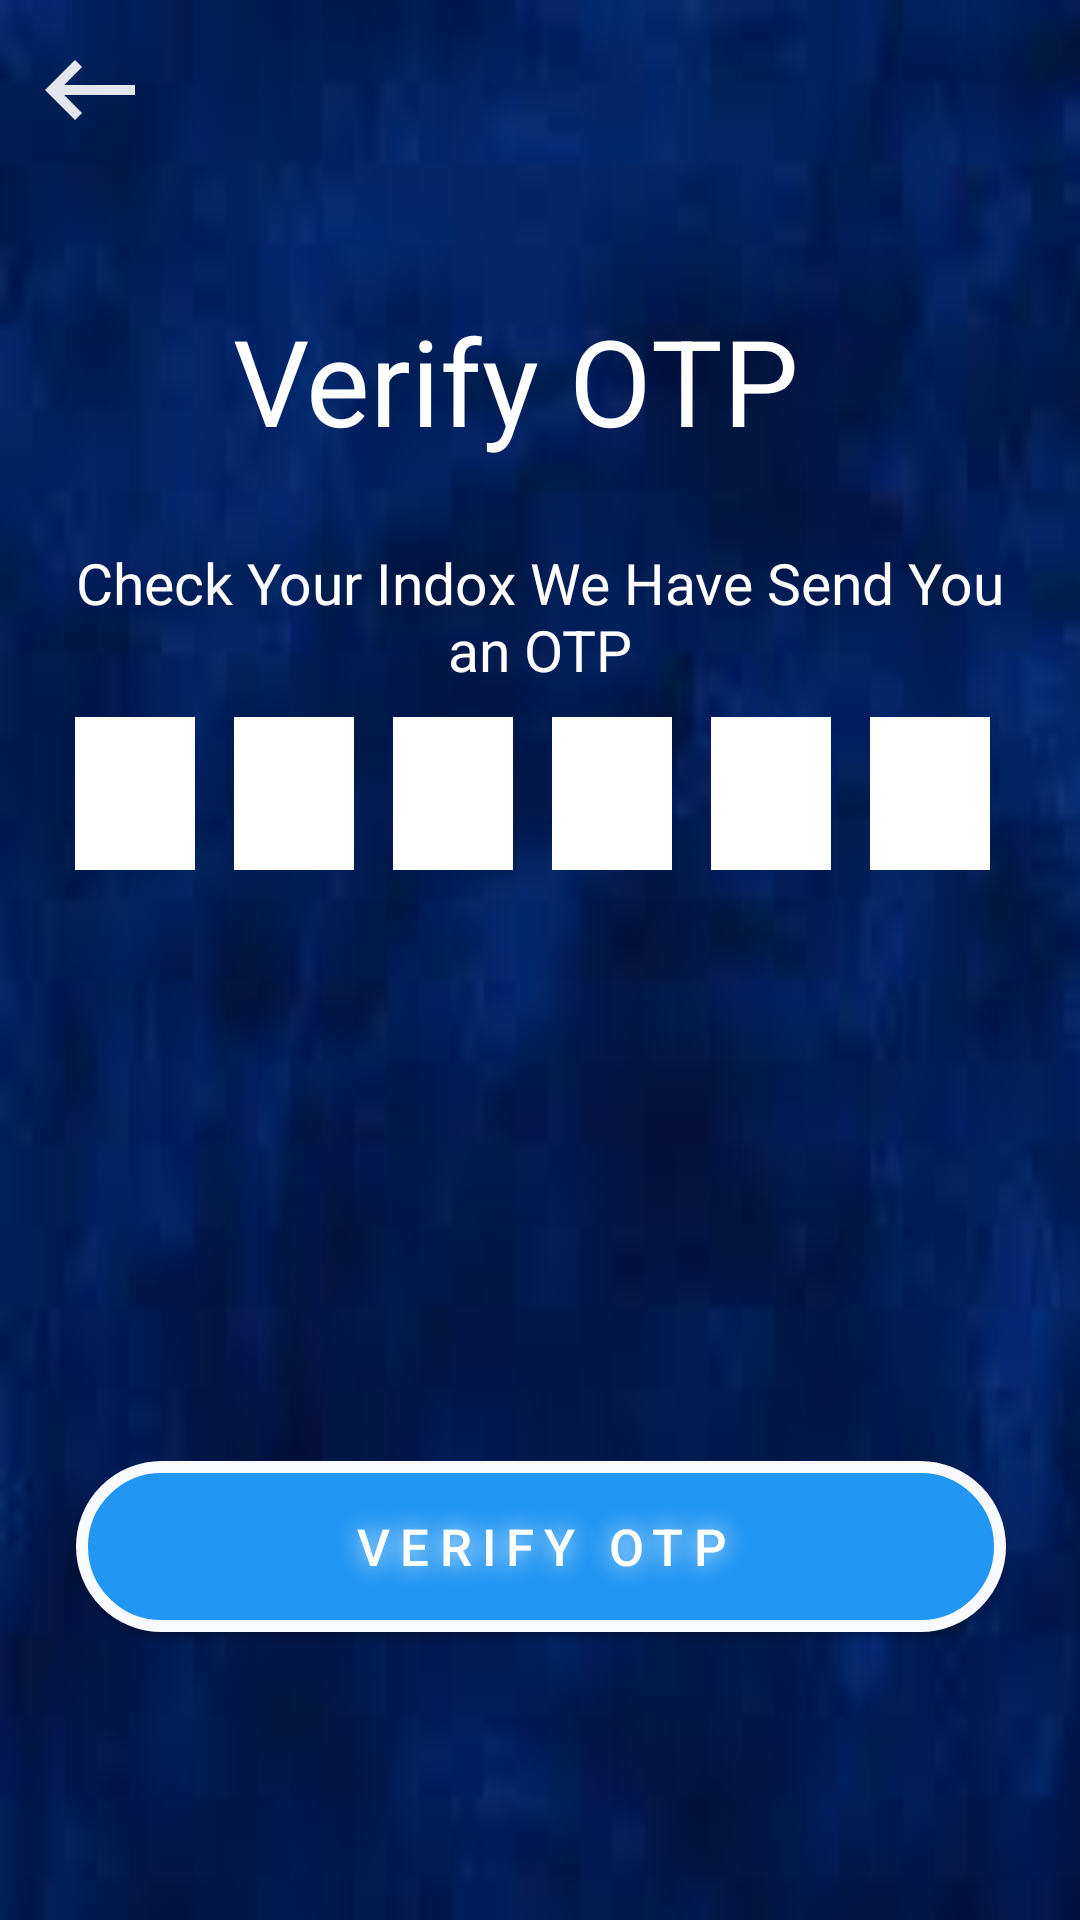

Where icons sit on this 1080*1920 app screen, as {"left": x1, "top": y1, "right": x2, "bottom": y2}:
keyboard backspace: {"left": 45, "top": 60, "right": 135, "bottom": 120}
